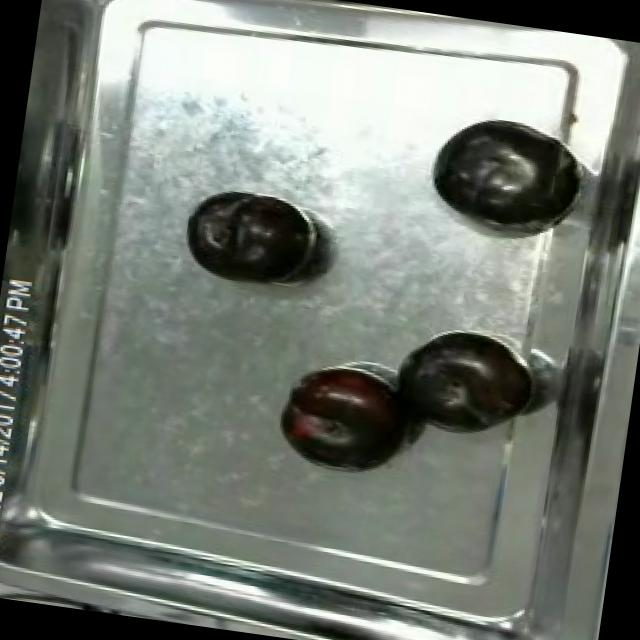Fruit: (423, 107, 592, 243), (270, 359, 419, 484), (178, 181, 326, 297), (392, 324, 540, 440)
